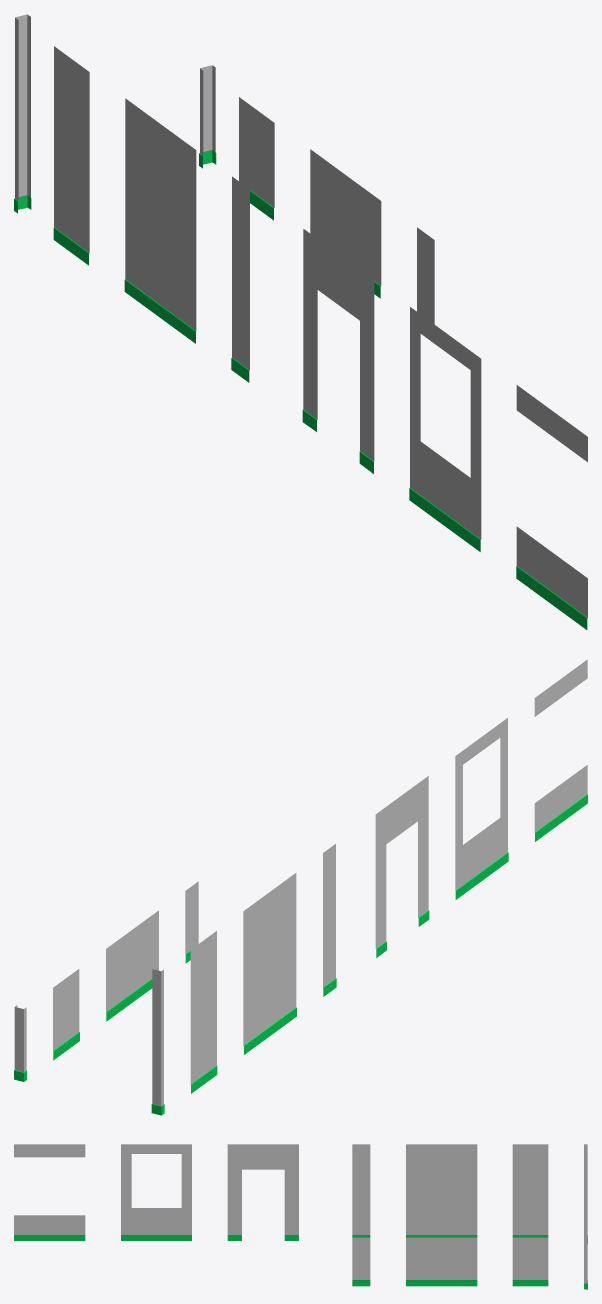
Rendered from WallModular.fbx.
3 views of the same model, one above another, from view 1: azimuth 30°, elevation 25°; view 2: azimuth 150°, elevation 25°; view 3: azimuth 270°, elevation 25° (orthographic). The views are drawn at different scales.
Visible parts, largest first — view 1: Wall.005, Wall.002, Wall.003, Wall.006, Wall.010, Wall.001, Wall.004, Wall.009, Wall.008, Wall.011, Wall.007, Wall.013; view 2: Wall.005, Wall.002, Wall.003, Wall.006, Wall.010, Wall.001, Wall.009, Wall.004, Wall.007, Wall.011, Wall.008, Wall.012; view 3: Wall.005, Wall.002, Wall.003, Wall.010, Wall.006, Wall.001, Wall.009, Wall.004, Wall.011, Wall.008.
Boxes of the visible parts, bbox=[...] form: Wall.005: bbox=[124, 98, 196, 343]; Wall.002: bbox=[409, 307, 481, 551]; Wall.003: bbox=[302, 229, 374, 473]; Wall.006: bbox=[53, 46, 89, 265]; Wall.010: bbox=[310, 149, 381, 298]; Wall.001: bbox=[516, 385, 587, 629]; Wall.004: bbox=[231, 176, 249, 382]; Wall.009: bbox=[239, 97, 274, 220]; Wall.008: bbox=[20, 14, 31, 209]; Wall.011: bbox=[417, 227, 434, 324]; Wall.007: bbox=[14, 16, 20, 213]; Wall.013: bbox=[205, 65, 216, 164]; Wall.005: bbox=[243, 873, 296, 1054]; Wall.002: bbox=[455, 718, 508, 899]; Wall.003: bbox=[375, 776, 429, 957]; Wall.006: bbox=[190, 931, 217, 1093]; Wall.010: bbox=[106, 910, 158, 1021]; Wall.001: bbox=[534, 659, 587, 841]; Wall.009: bbox=[53, 969, 79, 1060]; Wall.004: bbox=[323, 844, 336, 996]; Wall.007: bbox=[156, 969, 164, 1115]; Wall.011: bbox=[185, 881, 198, 963]; Wall.008: bbox=[151, 967, 156, 1114]; Wall.012: bbox=[19, 1007, 26, 1081]; Wall.005: bbox=[406, 1144, 477, 1237]; Wall.002: bbox=[121, 1144, 191, 1240]; Wall.003: bbox=[227, 1144, 298, 1240]; Wall.010: bbox=[406, 1237, 477, 1286]; Wall.006: bbox=[512, 1144, 548, 1237]; Wall.001: bbox=[14, 1144, 85, 1240]; Wall.009: bbox=[512, 1237, 548, 1286]; Wall.004: bbox=[352, 1144, 370, 1237]; Wall.011: bbox=[352, 1237, 370, 1286]; Wall.008: bbox=[584, 1147, 587, 1243].
Size of the model in its own units: 1288 by 1203 by 6444.
